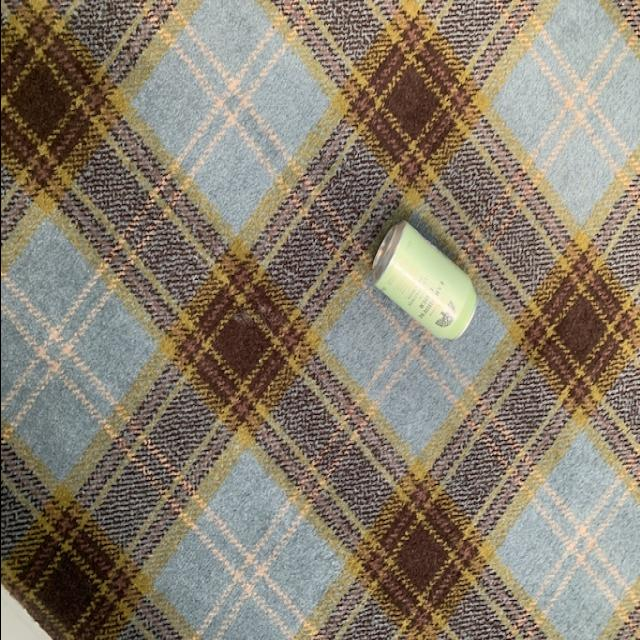Aluminum Can: (362, 222, 482, 346)
